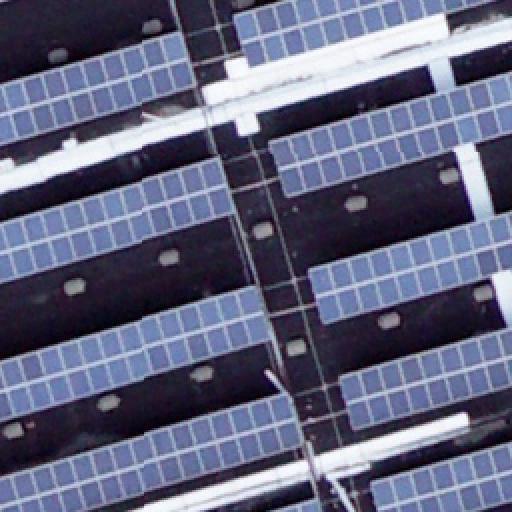solar-panel: (0, 286, 272, 422), (0, 393, 304, 511), (268, 71, 512, 201), (0, 158, 236, 282), (308, 210, 512, 326), (0, 33, 192, 143), (336, 328, 512, 432), (231, 0, 481, 68), (368, 441, 512, 511), (278, 500, 318, 512)
